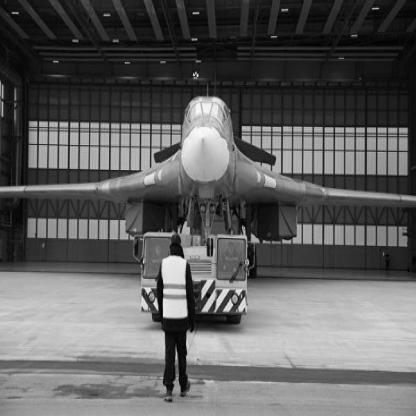Tu160: (2, 71, 416, 280)
